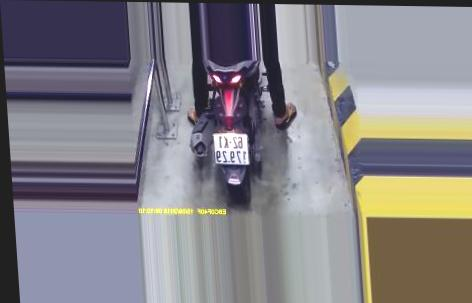License_Plate: (208, 130, 253, 169)
